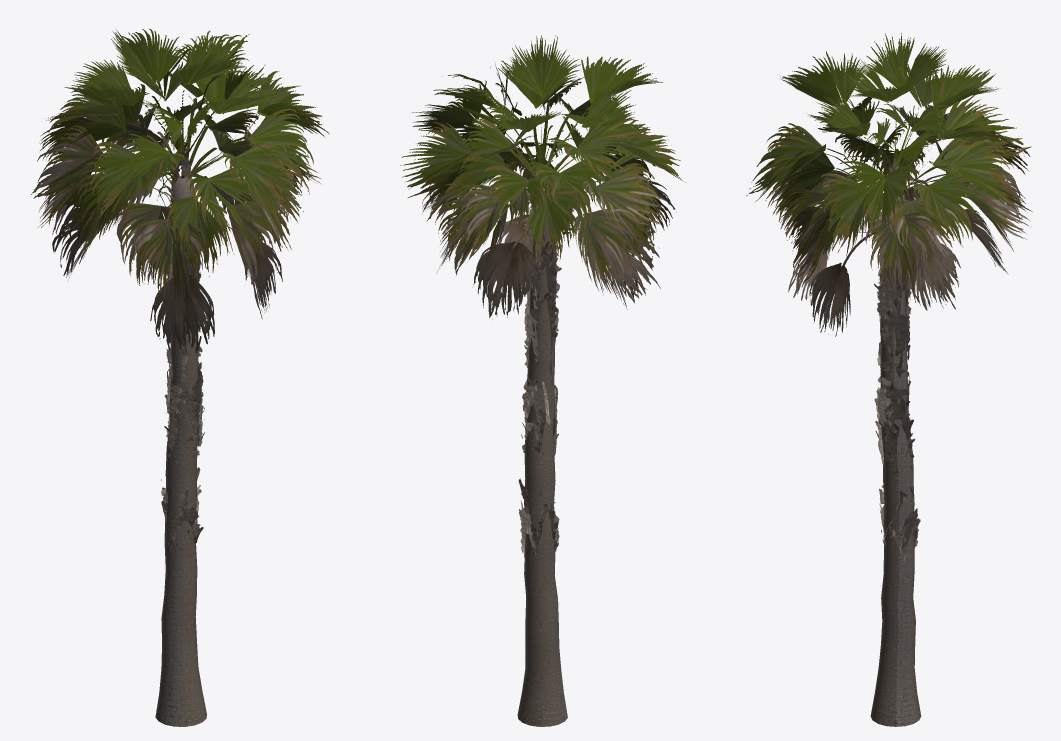
The model's file is palma-lepeza-b.glb.
The picture shows the model from 3 angles, left to right: view 1: azimuth 30°, elevation 25°; view 2: azimuth 150°, elevation 25°; view 3: azimuth 270°, elevation 25°; orthographic projection. The views are drawn at different scales.
Visible parts, largest first — view 1: palma-lepeza-b; view 2: palma-lepeza-b; view 3: palma-lepeza-b.
Part boxes in pixels (<box>): palma-lepeza-b: <box>30,28,329,726</box>; palma-lepeza-b: <box>400,35,685,726</box>; palma-lepeza-b: <box>746,33,1032,726</box>.
Bounding box in the file's own units: 3.29 × 7.26 × 3.07.
2 materials, 2 textured.
